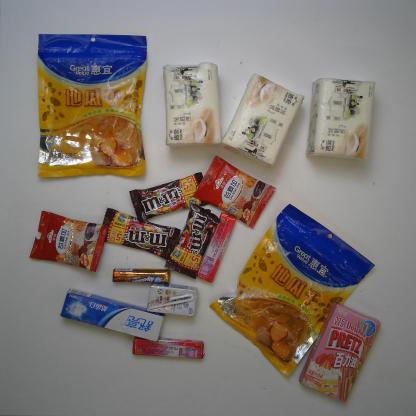Candy: (197, 210, 236, 282), (131, 336, 207, 363), (111, 268, 171, 286)
Chocolate: (97, 206, 182, 262), (128, 171, 208, 225), (165, 205, 220, 279)
Dessert: (297, 301, 381, 405)
Dried Fruit: (208, 204, 376, 380), (34, 32, 148, 181)
Instant Drink: (192, 155, 277, 228), (28, 209, 107, 273)
Milk: (148, 282, 198, 319)
Personal Hygiene: (57, 288, 166, 343)
Tissue: (221, 73, 303, 167), (305, 77, 377, 161), (162, 62, 222, 149)
